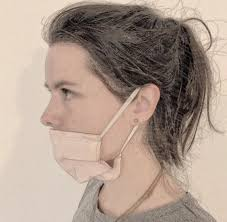mask_weared_incorrect: (37, 68, 117, 187)
